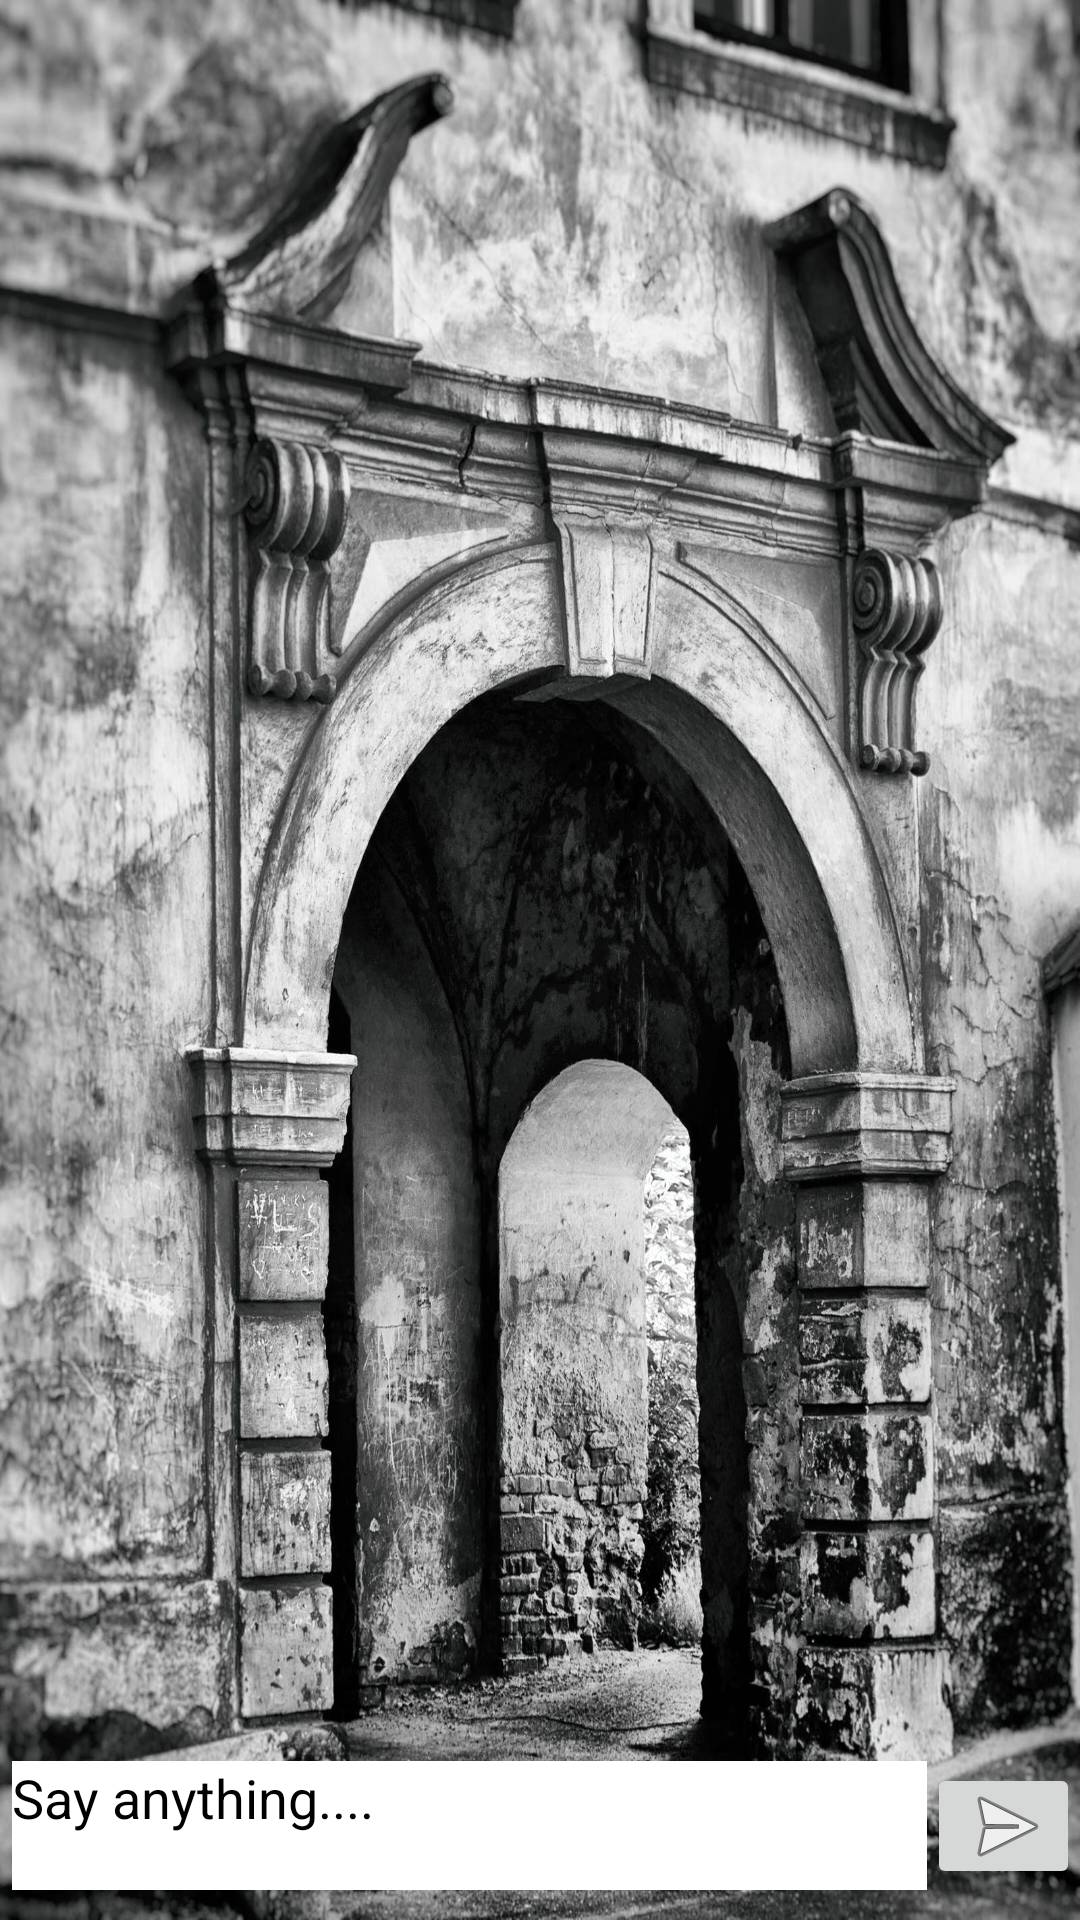

Where to tap for icons on this 1080px x 1920px app screen, as [x,y]:
send: [1003,1826]
